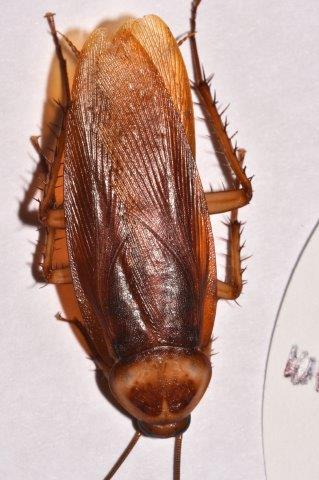cockroach: (36, 14, 248, 446)
